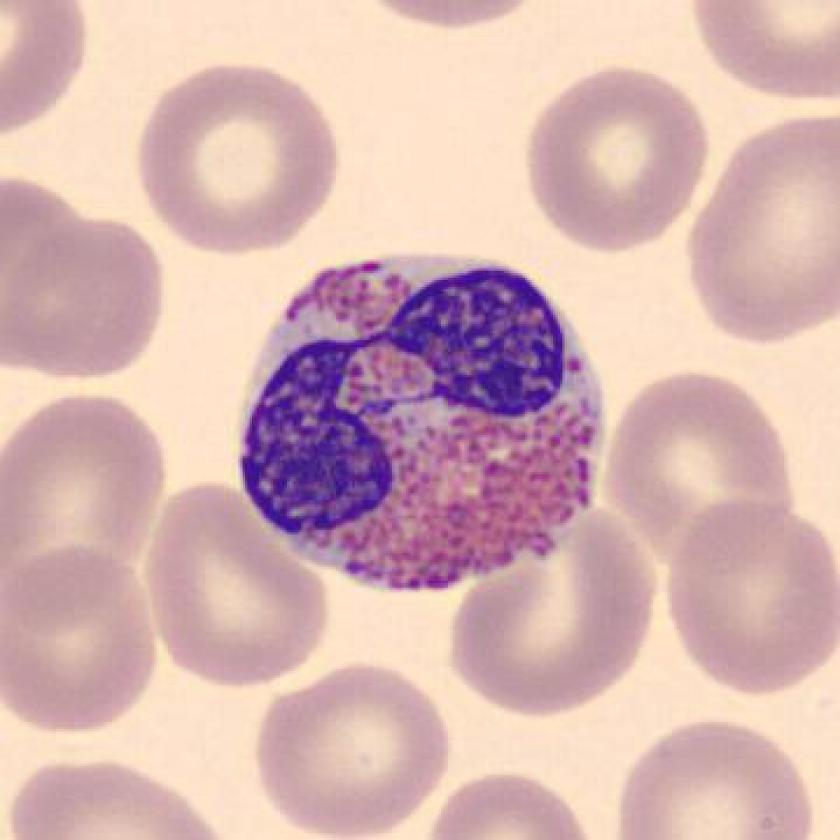eosinophil: (230, 239, 617, 605)
